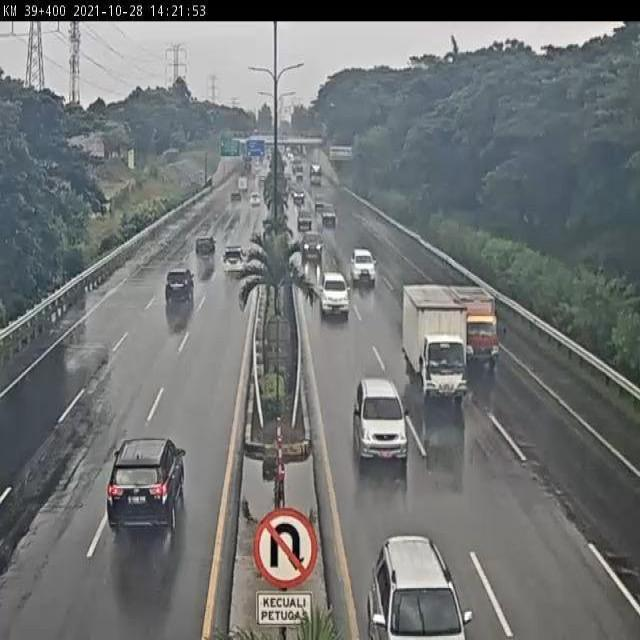car: (364, 509, 461, 640), (107, 440, 184, 540), (352, 380, 409, 463), (320, 268, 349, 313), (164, 268, 194, 303), (350, 245, 376, 280), (221, 244, 247, 275), (301, 231, 324, 260), (194, 234, 215, 258)
truck-m-: (405, 290, 468, 406)
truck-s-: (457, 288, 502, 367)
